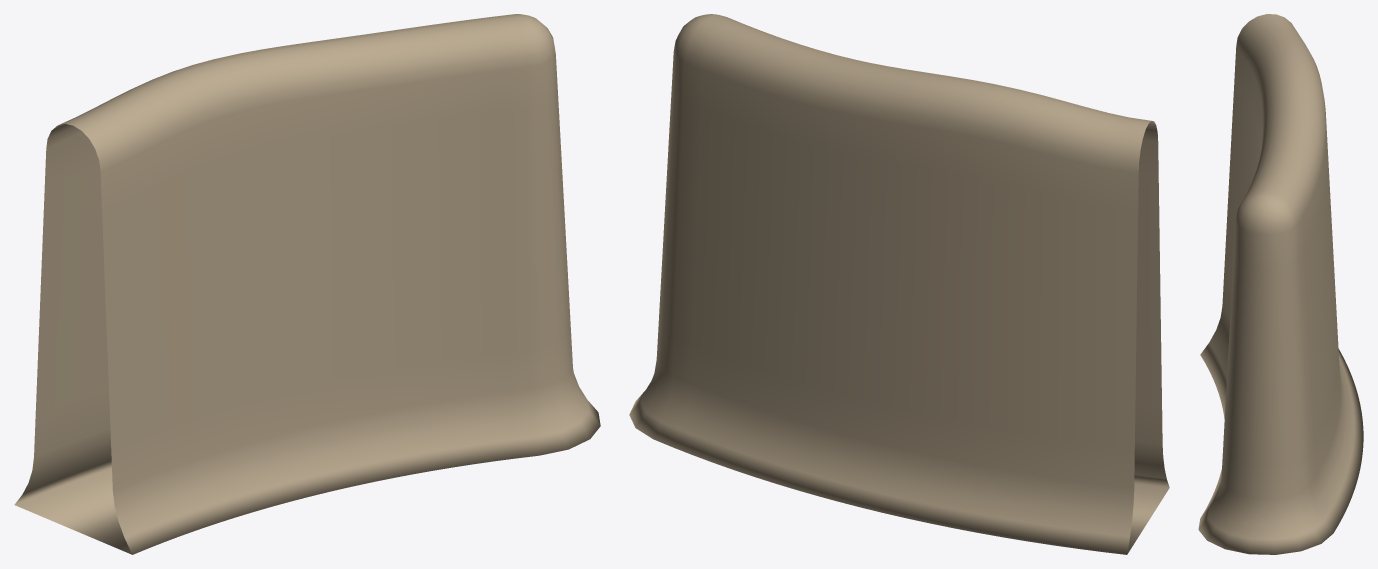
The model's file is KFB_Wall_curved_ring_r2_capA.r4.glb.
3 renders of one model, left to right at view 1: azimuth 30°, elevation 25°; view 2: azimuth 150°, elevation 25°; view 3: azimuth 270°, elevation 25°, orthographic. The views are drawn at different scales.
Parts seen in each view (by area): view 1: KFB_Wall_curved_ring_r2_capA; view 2: KFB_Wall_curved_ring_r2_capA; view 3: KFB_Wall_curved_ring_r2_capA.
Part boxes in pixels (x1=…): KFB_Wall_curved_ring_r2_capA: x1=14, y1=14, x2=600, y2=554; KFB_Wall_curved_ring_r2_capA: x1=629, y1=14, x2=1169, y2=554; KFB_Wall_curved_ring_r2_capA: x1=1198, y1=14, x2=1363, y2=554.
Bounding box in the file's own units: 4.99 × 3.71 × 1.62.
